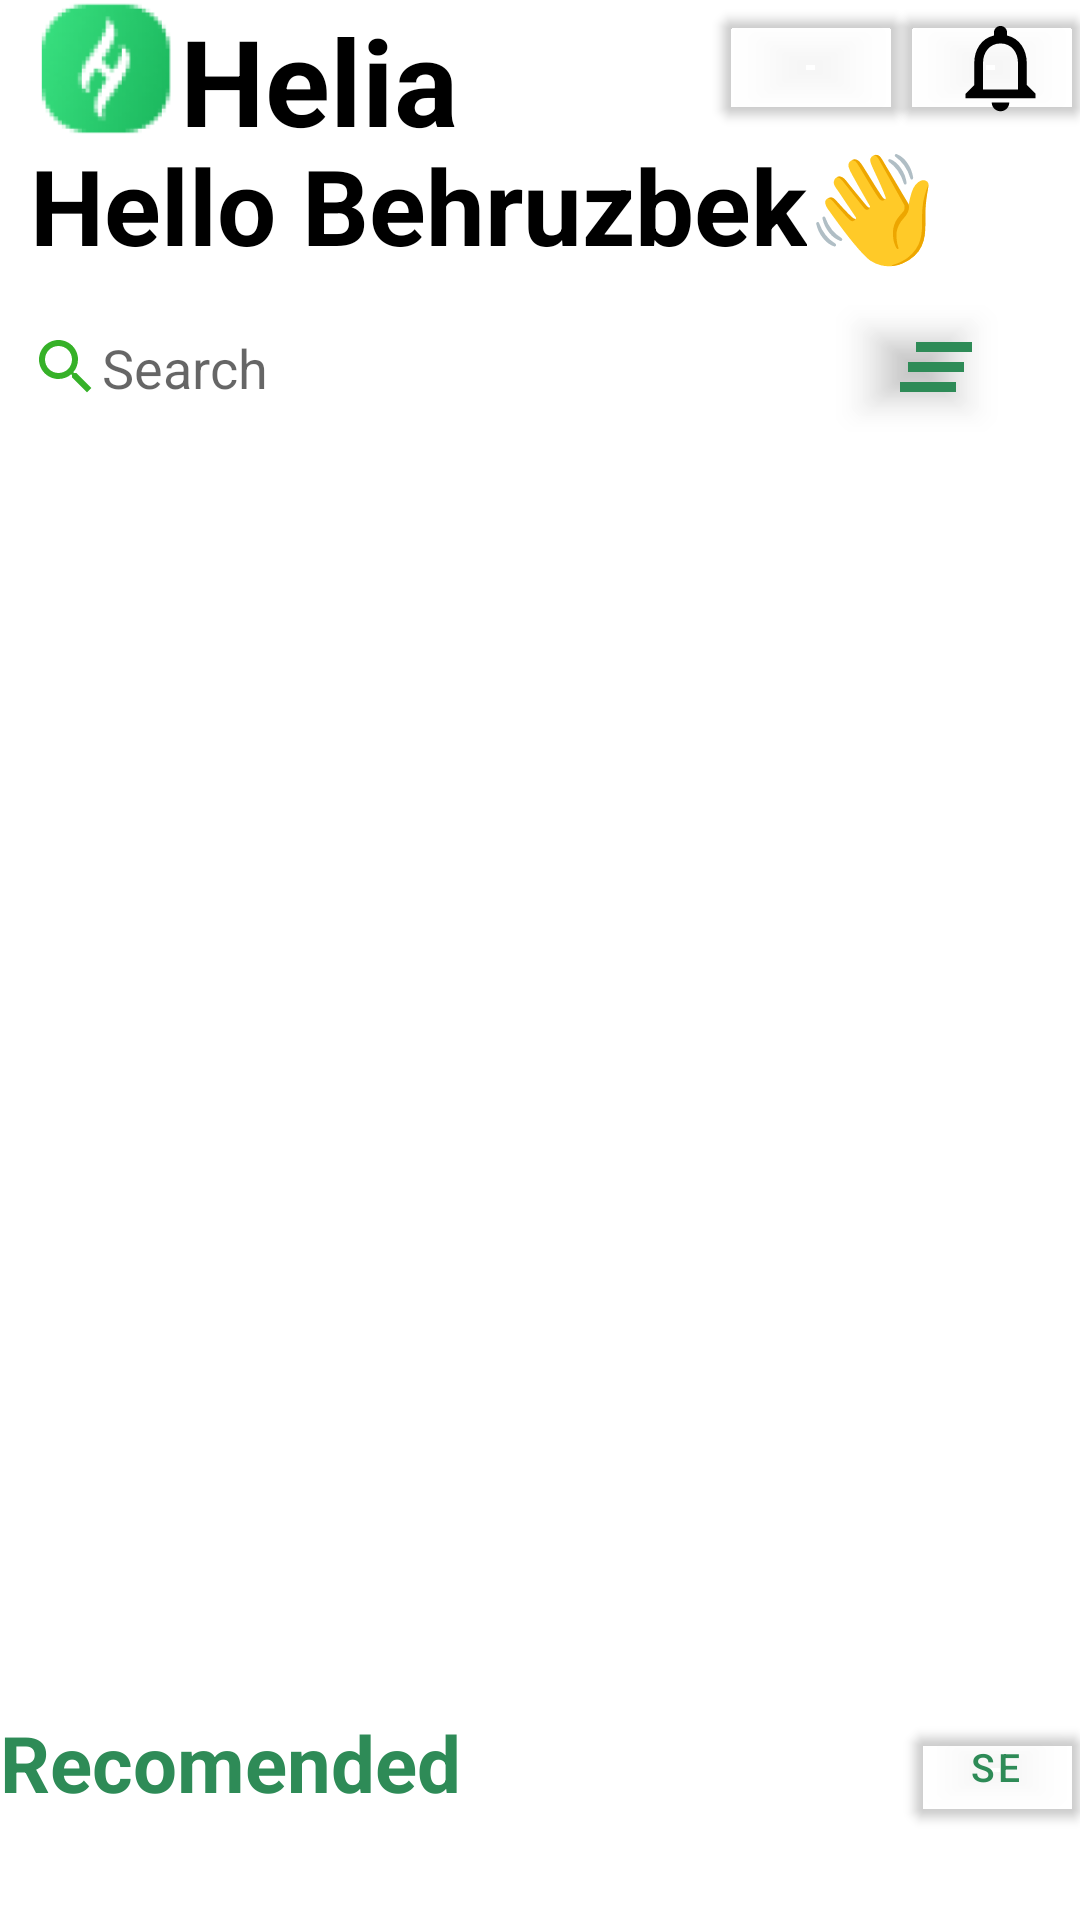

Where to tap for icons on this 1080px×1920px app screen, as [x,y]:
notifications none: [990,67]
